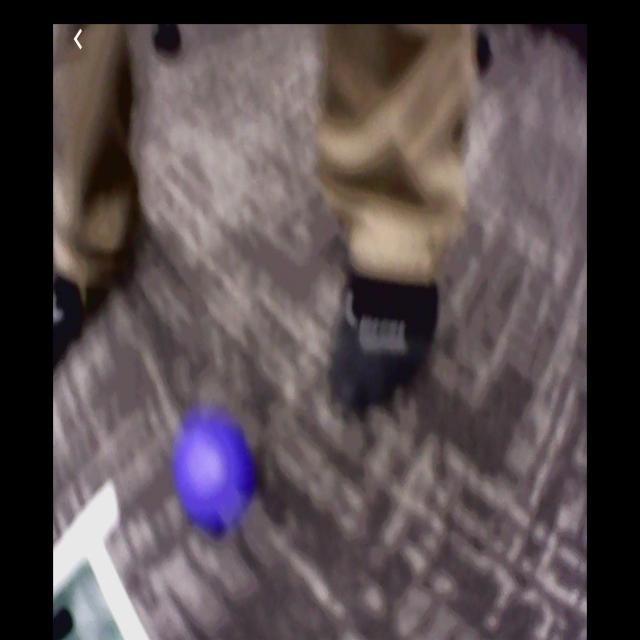ball: (175, 418, 254, 533)
